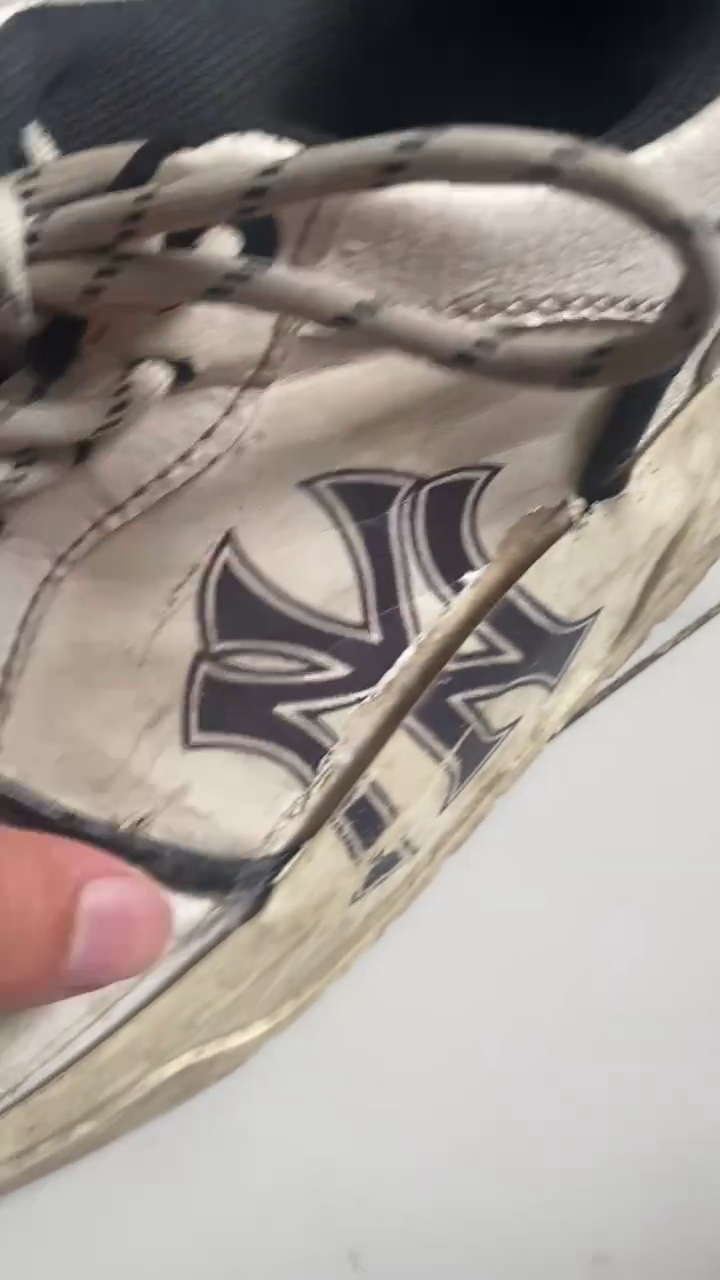bonding: (422, 506, 578, 650), (321, 654, 471, 786), (235, 782, 326, 913)
